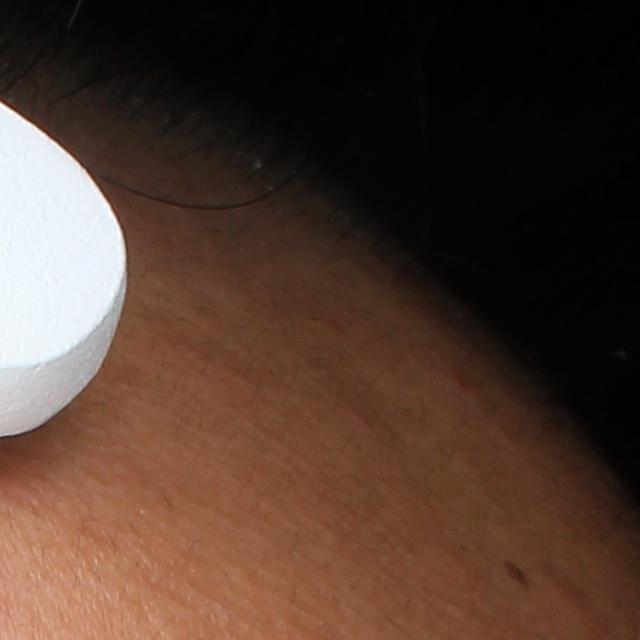nevus: (498, 556, 530, 594)
